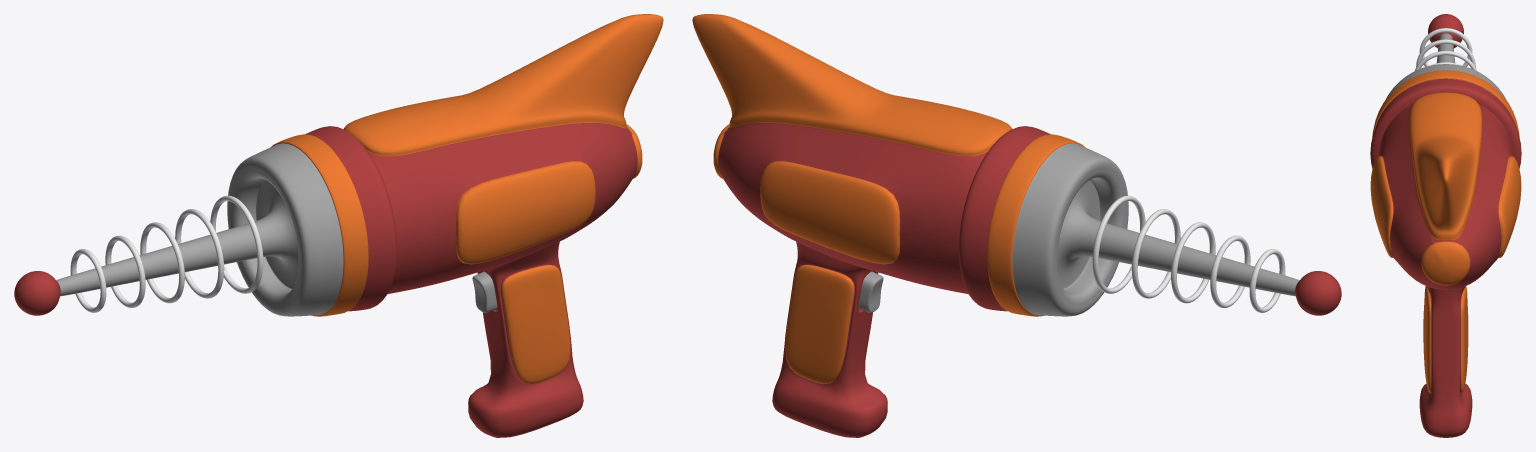
Rendered from LASER GUN.fbx.
3 renders of one model, left to right at view 1: azimuth 30°, elevation 25°; view 2: azimuth 150°, elevation 25°; view 3: azimuth 270°, elevation 25°, orthographic. The views are drawn at different scales.
Visible parts, largest first — view 1: Sphere; view 2: Sphere; view 3: Sphere.
Part boxes in pixels (x1,y1,x2,y2): Sphere: [14, 14, 663, 437]; Sphere: [692, 14, 1341, 437]; Sphere: [1370, 14, 1521, 437].
Size of the model in its own units: 1021 by 582 by 257.
